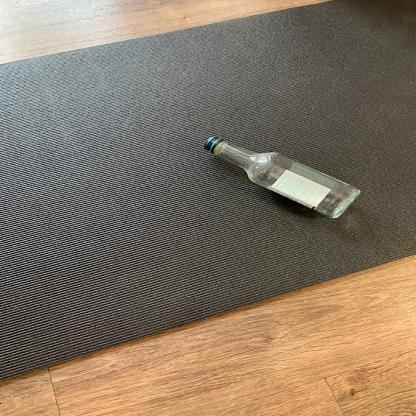trash: (202, 137, 362, 222)
